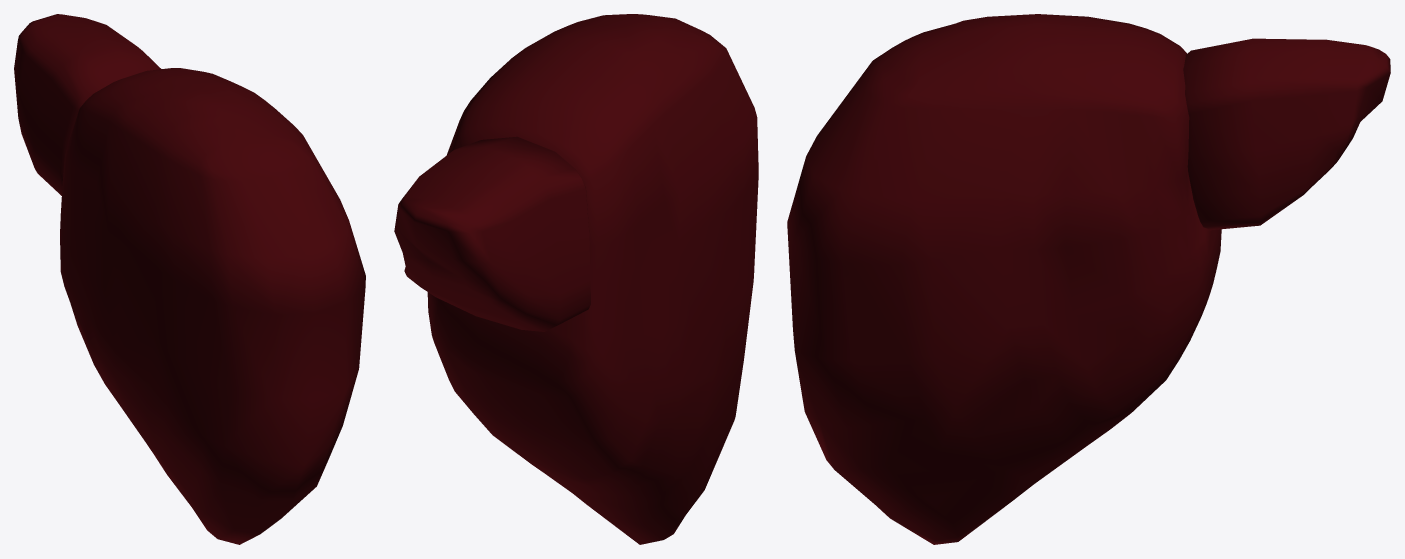
The model's file is foie_r.fbx.
3 renders of one model, left to right at view 1: azimuth 30°, elevation 25°; view 2: azimuth 150°, elevation 25°; view 3: azimuth 270°, elevation 25°, orthographic. The views are drawn at different scales.
Parts seen in each view (by area): view 1: Cube; view 2: Cube; view 3: Cube.
Boxes of the visible parts, bbox=[...] form: Cube: bbox=[14, 14, 365, 544]; Cube: bbox=[394, 14, 758, 544]; Cube: bbox=[787, 14, 1390, 544].
Bounding box in the file's own units: 1.86 × 4.1 × 4.33.
